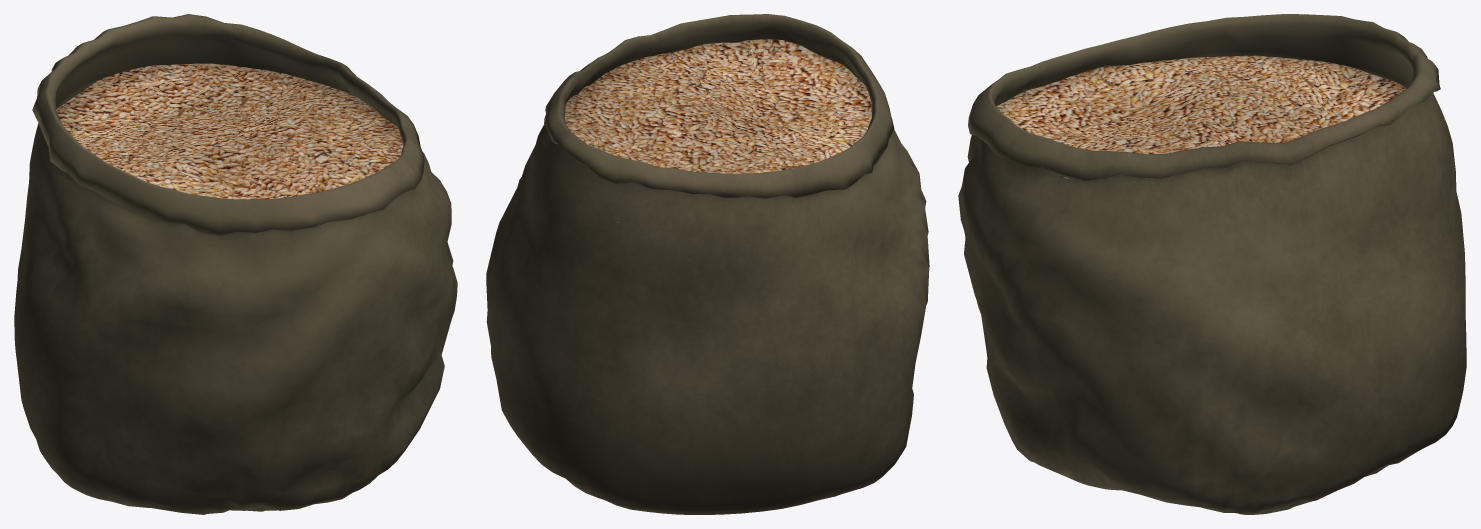
File: bag_1.glb
3 views of the same model, side by side, from view 1: azimuth 30°, elevation 25°; view 2: azimuth 150°, elevation 25°; view 3: azimuth 270°, elevation 25° (orthographic). The views are drawn at different scales.
Parts seen in each view (by area): view 1: bag_1; view 2: bag_1; view 3: bag_1.
Boxes of the visible parts, left/top/right/bottom form: bag_1: left=14, top=14, right=457, bottom=514; bag_1: left=486, top=14, right=929, bottom=514; bag_1: left=958, top=14, right=1466, bottom=514.
Bounding box in the file's own units: 0.544 × 0.5032 × 0.5753.
Materials: 1 (1 with a texture image).
